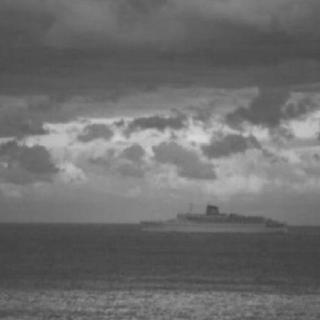Stratus: (0, 0, 320, 195)
